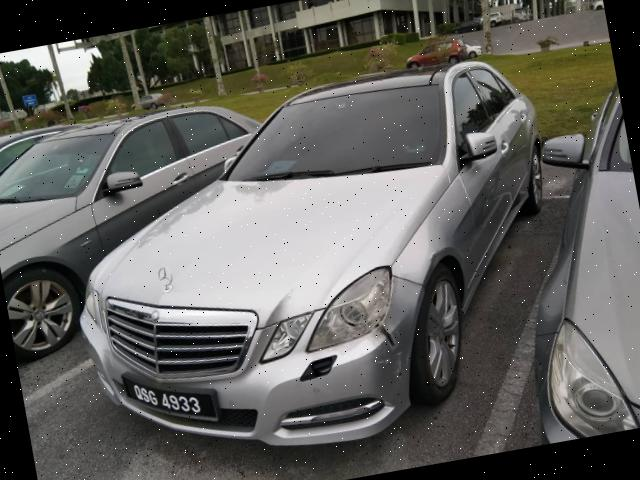License_Plate: (121, 359, 221, 437)
car: (25, 34, 603, 480), (1, 88, 298, 360)
